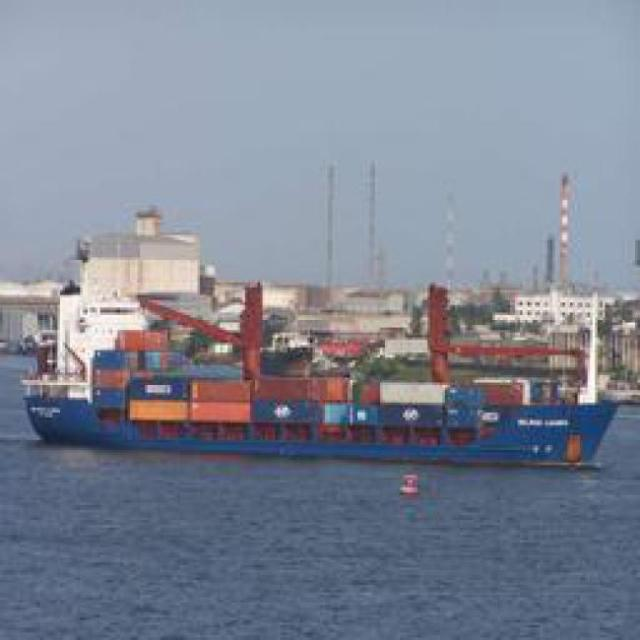boat: (5, 311, 616, 473)
